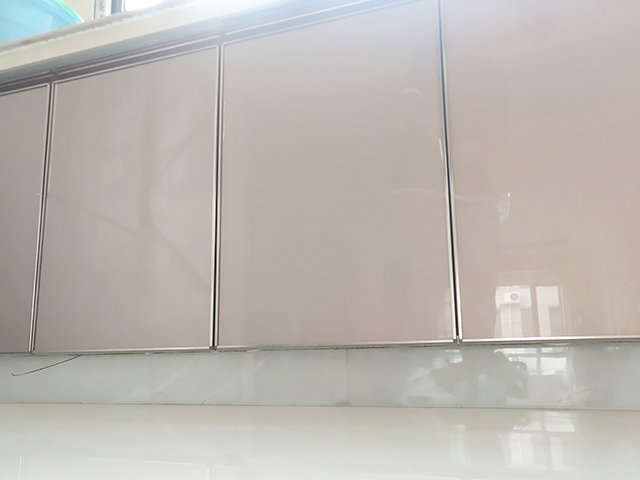cabinet: (1, 1, 640, 411)
